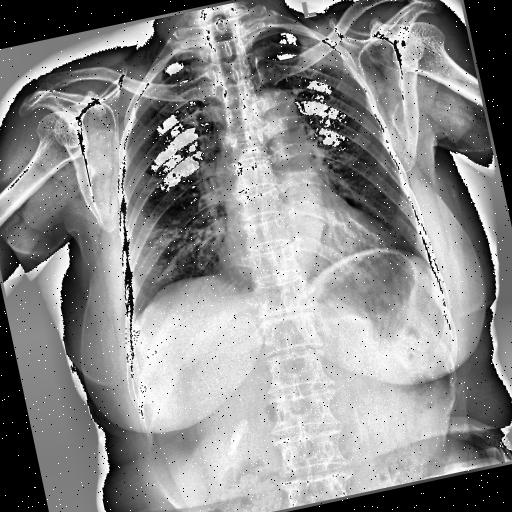0- Aortic enlargement: (239, 81, 310, 149), (242, 80, 307, 154), (254, 82, 304, 146)
3- Cardiomegaly: (212, 201, 394, 290), (213, 205, 395, 288)
